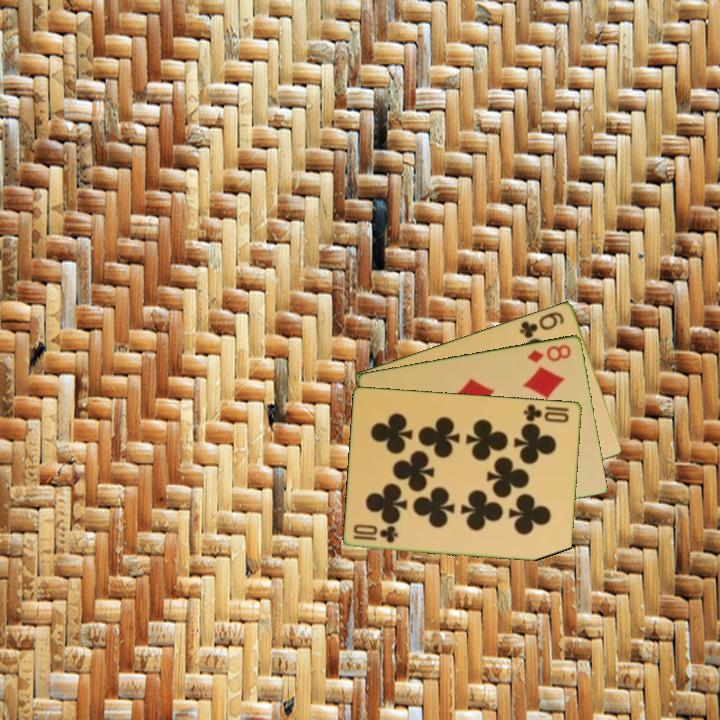10c: (520, 401, 572, 425), (350, 524, 401, 546)
6c: (516, 308, 567, 341)
8d: (524, 341, 574, 365)
